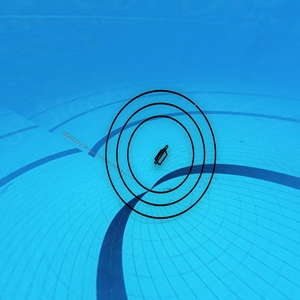circle: (104, 84, 220, 222)
submarine: (152, 144, 170, 168)
